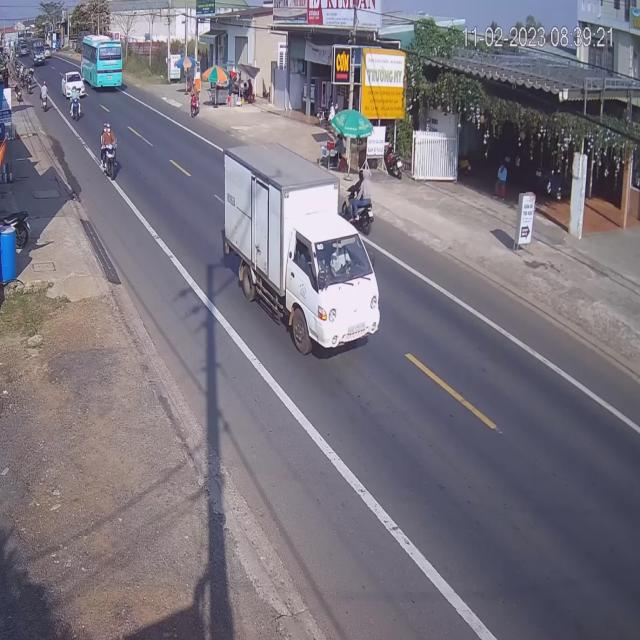bus: (79, 39, 121, 97)
car: (62, 70, 84, 98)
motorbike: (341, 173, 373, 234), (99, 123, 120, 181), (70, 90, 84, 122), (190, 88, 200, 119), (40, 84, 50, 113)
truck: (223, 142, 379, 351)
